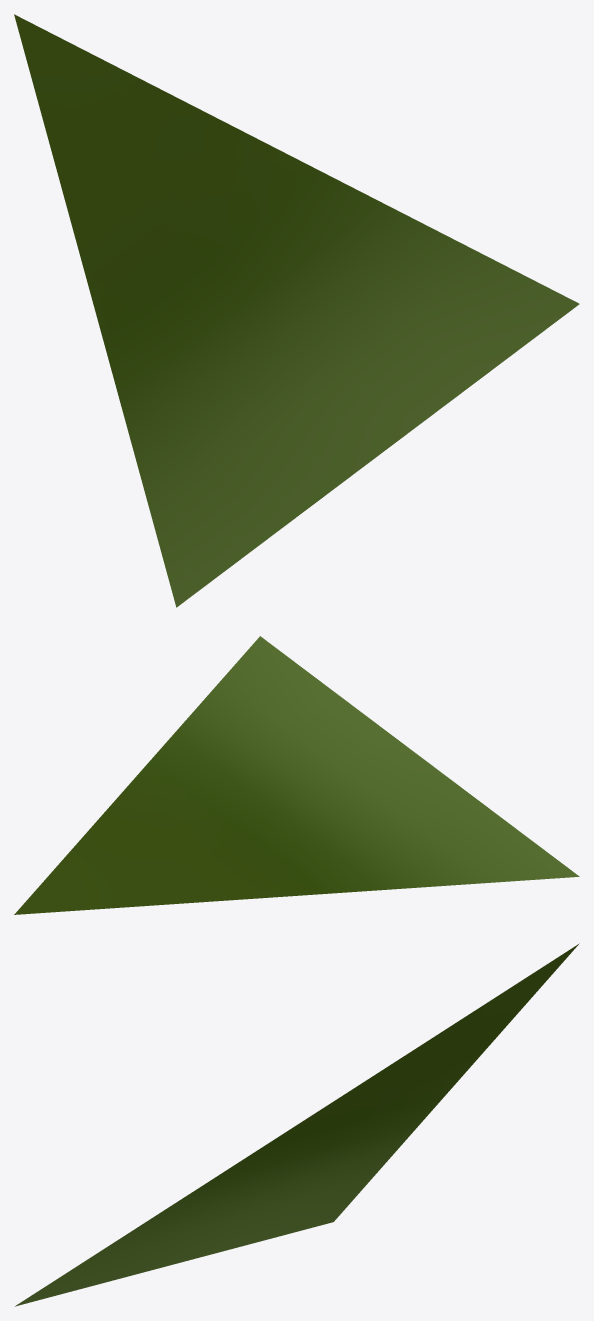
3 renders of one model, top to bottom at view 1: azimuth 30°, elevation 25°; view 2: azimuth 150°, elevation 25°; view 3: azimuth 330°, elevation 25°, orthographic. The views are drawn at different scales.
Bounding box in the file's own units: 0.1356 × 0.0659 × 0.255.
Materials: 1 (1 with a texture image).
